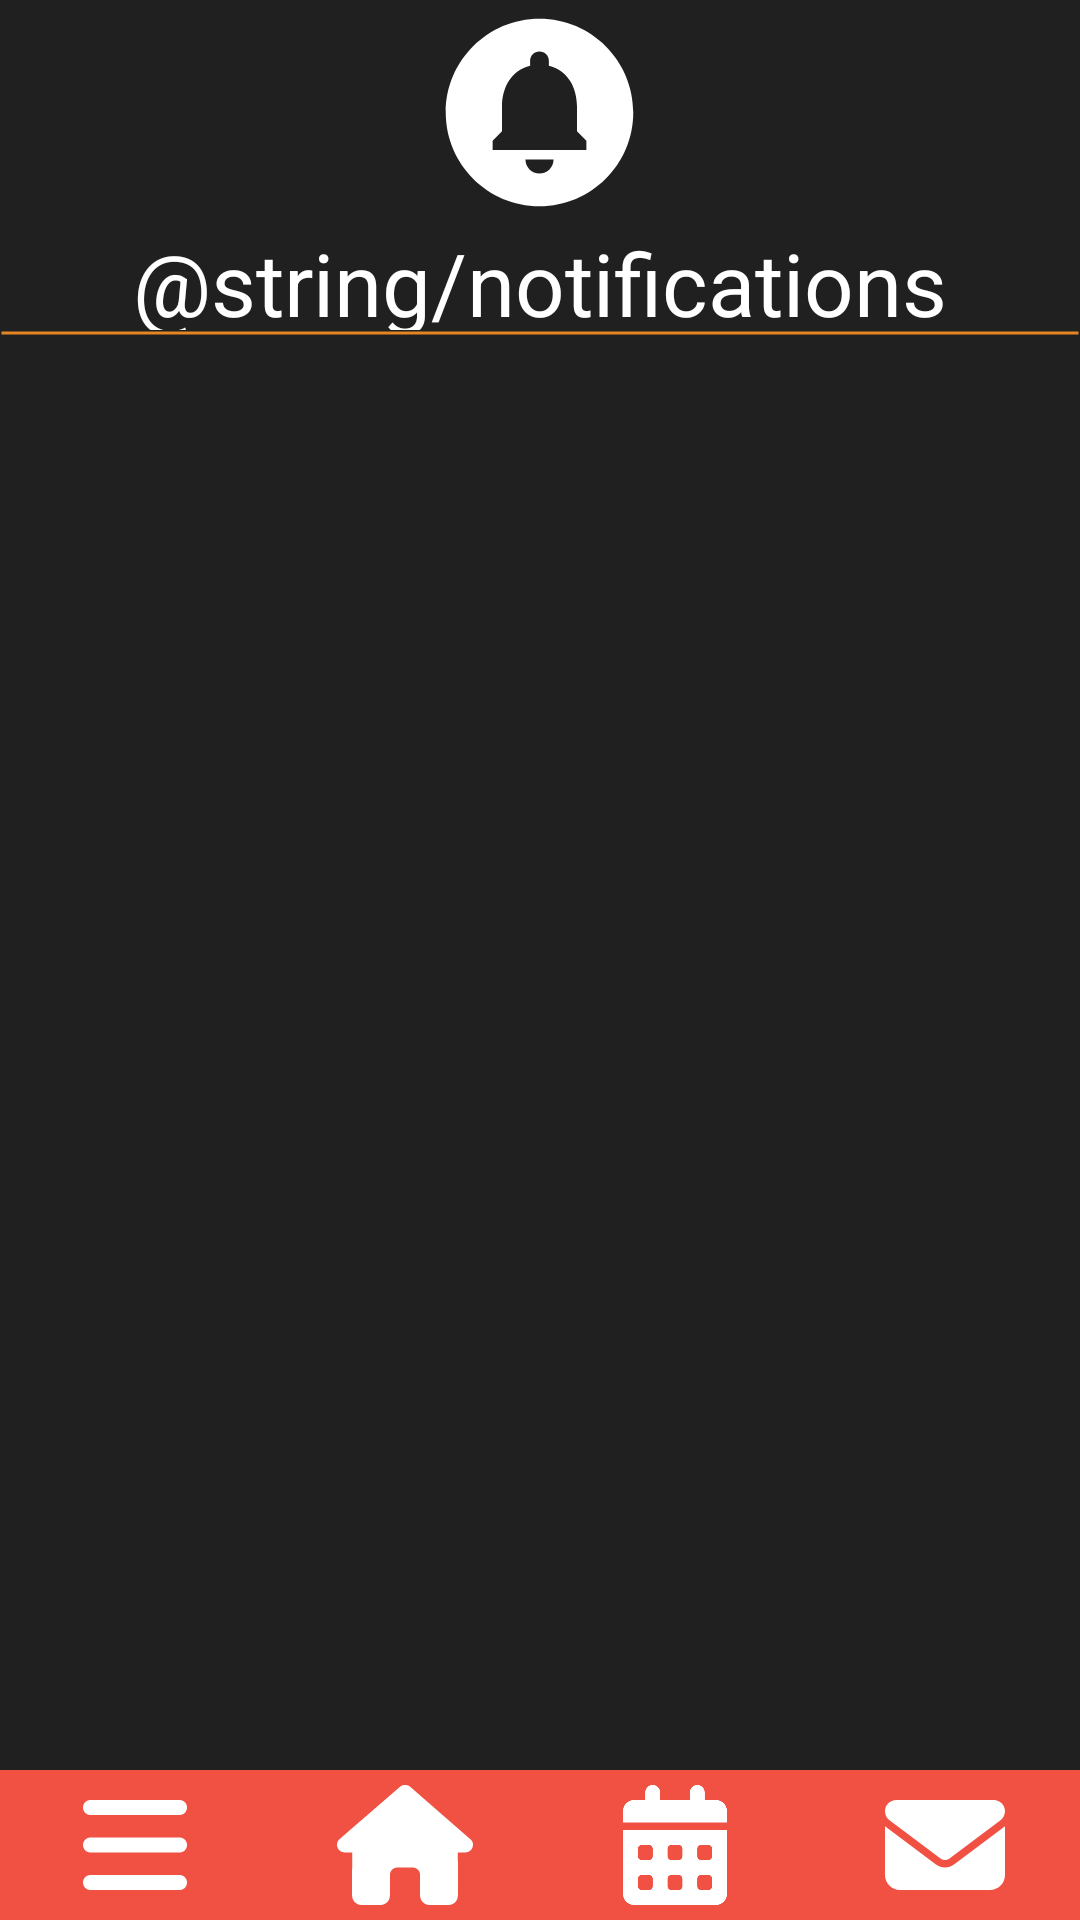

Screen size 1080w x 1920h. Icon name, then its center in pixels as (x=x, y=y):
bell: (x=539, y=112)
calendar: (x=675, y=1845)
hamburger: (x=135, y=1845)
home: (x=405, y=1845)
